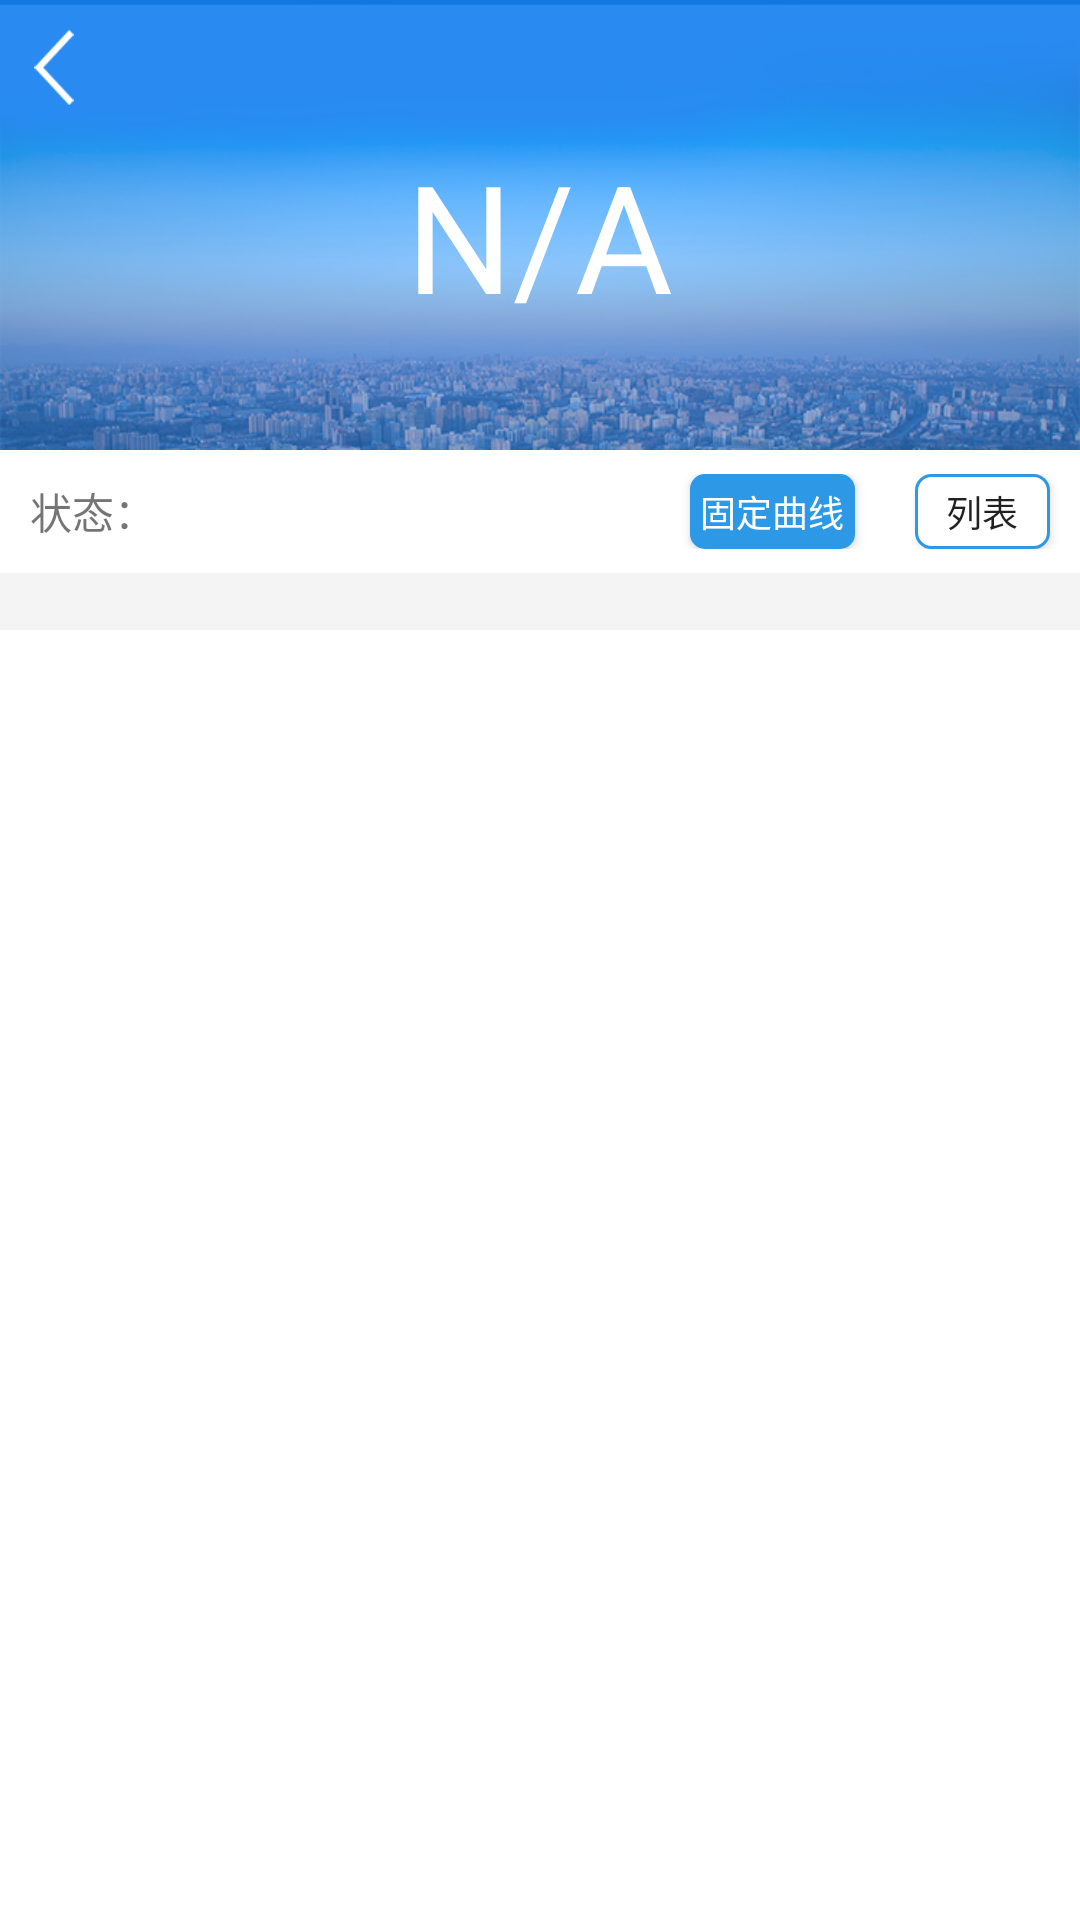

Locate icon controls on the screen. Image size 1080 × 1920, boxes as [left=x1, top=y1, right=x2, bottom=y2].
back: [left=34, top=30, right=74, bottom=105]
